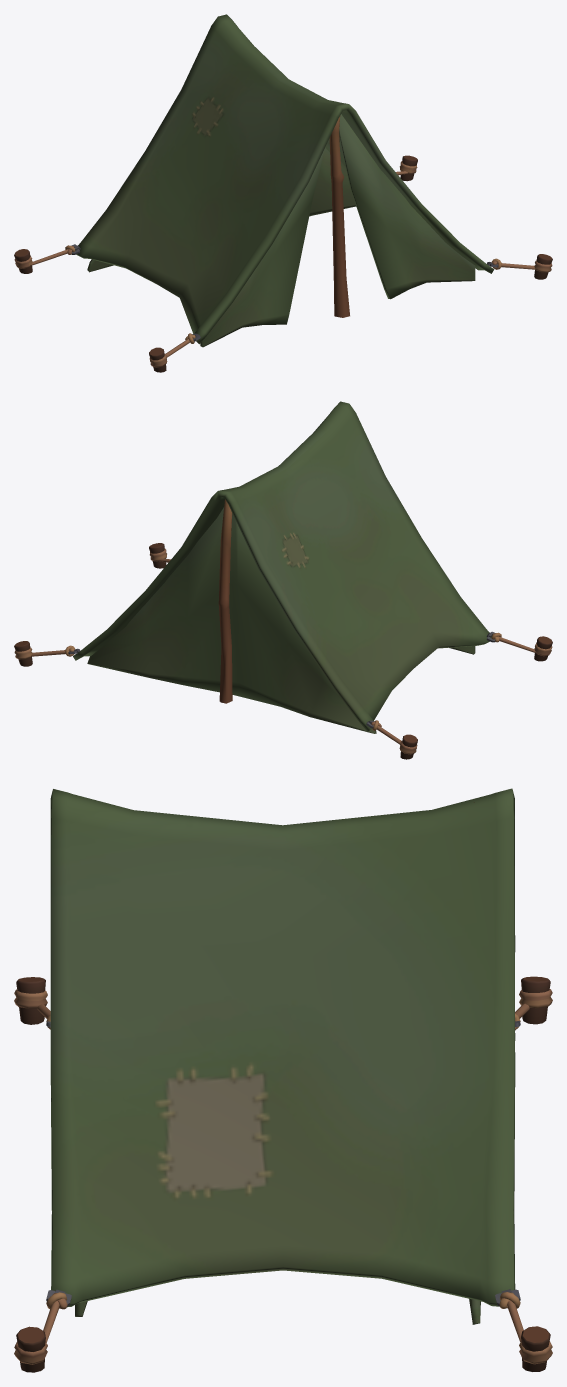
File: tent.glb
3 views of the same model, one above another, from view 1: azimuth 30°, elevation 25°; view 2: azimuth 150°, elevation 25°; view 3: azimuth 270°, elevation 25° (orthographic). The views are drawn at different scales.
Visible parts, largest first — view 1: SM_Rest_Tent; view 2: SM_Rest_Tent; view 3: SM_Rest_Tent.
Boxes of the visible parts, x1=… form: SM_Rest_Tent: x1=14, y1=14, x2=552, y2=372; SM_Rest_Tent: x1=14, y1=401, x2=552, y2=759; SM_Rest_Tent: x1=14, y1=788, x2=552, y2=1372.
Bounding box in the file's own units: 3.41 × 1.74 × 2.11.
Materials: 1 (1 with a texture image).
